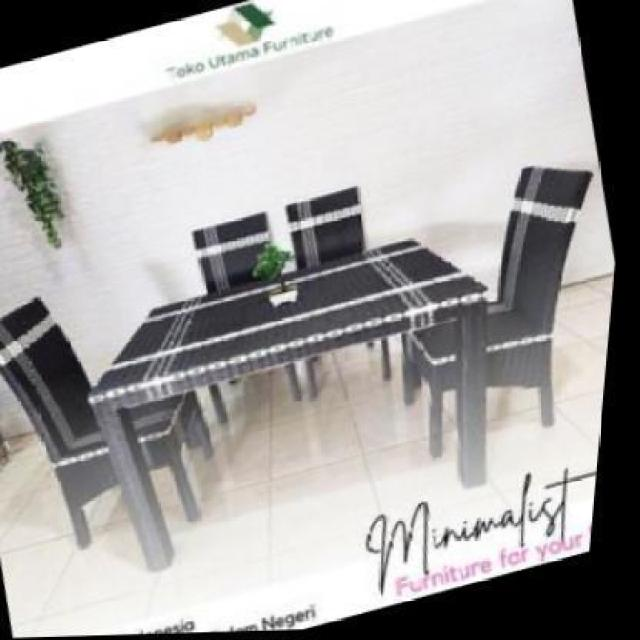tables: (86, 235, 491, 571)
